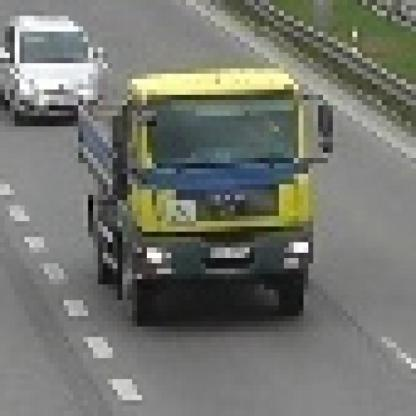truck: (79, 59, 344, 317)
